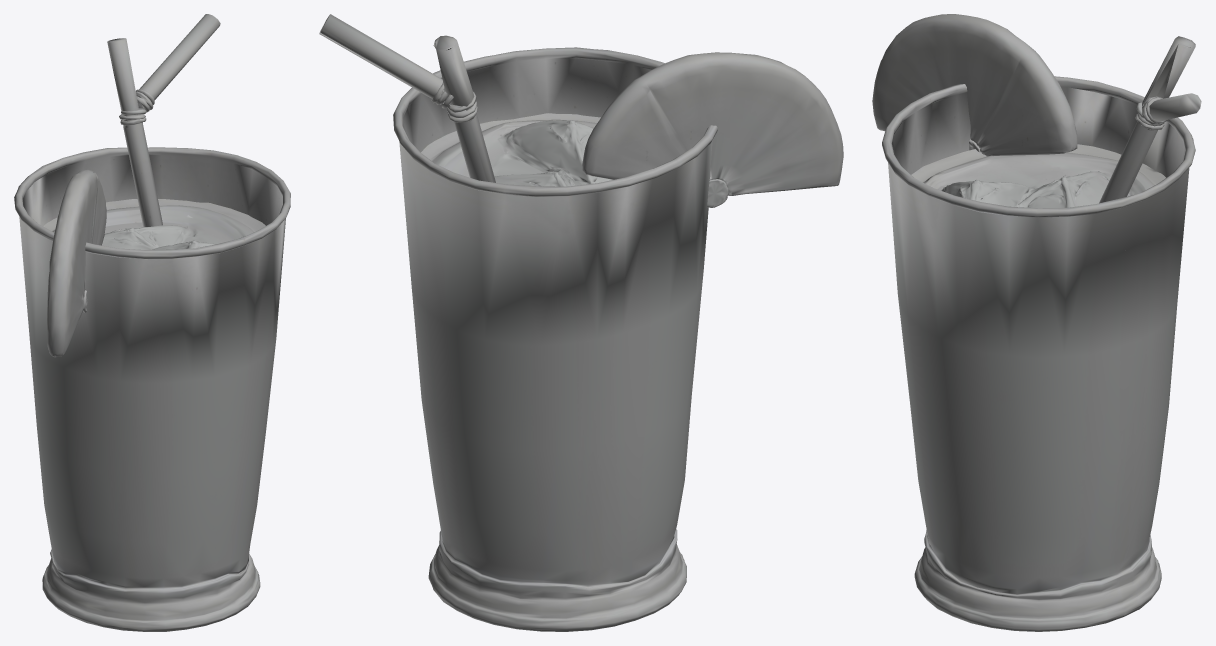
File: r33-juice.glb
3 views of the same model, side by side, from view 1: azimuth 30°, elevation 25°; view 2: azimuth 150°, elevation 25°; view 3: azimuth 270°, elevation 25° (orthographic). The views are drawn at different scales.
Parts seen in each view (by area): view 1: tripo_node_279feb6d-da6e-4319-bab5-a52e569885c9; view 2: tripo_node_279feb6d-da6e-4319-bab5-a52e569885c9; view 3: tripo_node_279feb6d-da6e-4319-bab5-a52e569885c9.
Part boxes in pixels (x1,y1,x2,y2): tripo_node_279feb6d-da6e-4319-bab5-a52e569885c9: (14, 14, 290, 631); tripo_node_279feb6d-da6e-4319-bab5-a52e569885c9: (319, 14, 843, 631); tripo_node_279feb6d-da6e-4319-bab5-a52e569885c9: (872, 14, 1201, 631).
Size of the model in its own units: 0.6426 by 0.998 by 0.5332.
1 material, 1 textured.
